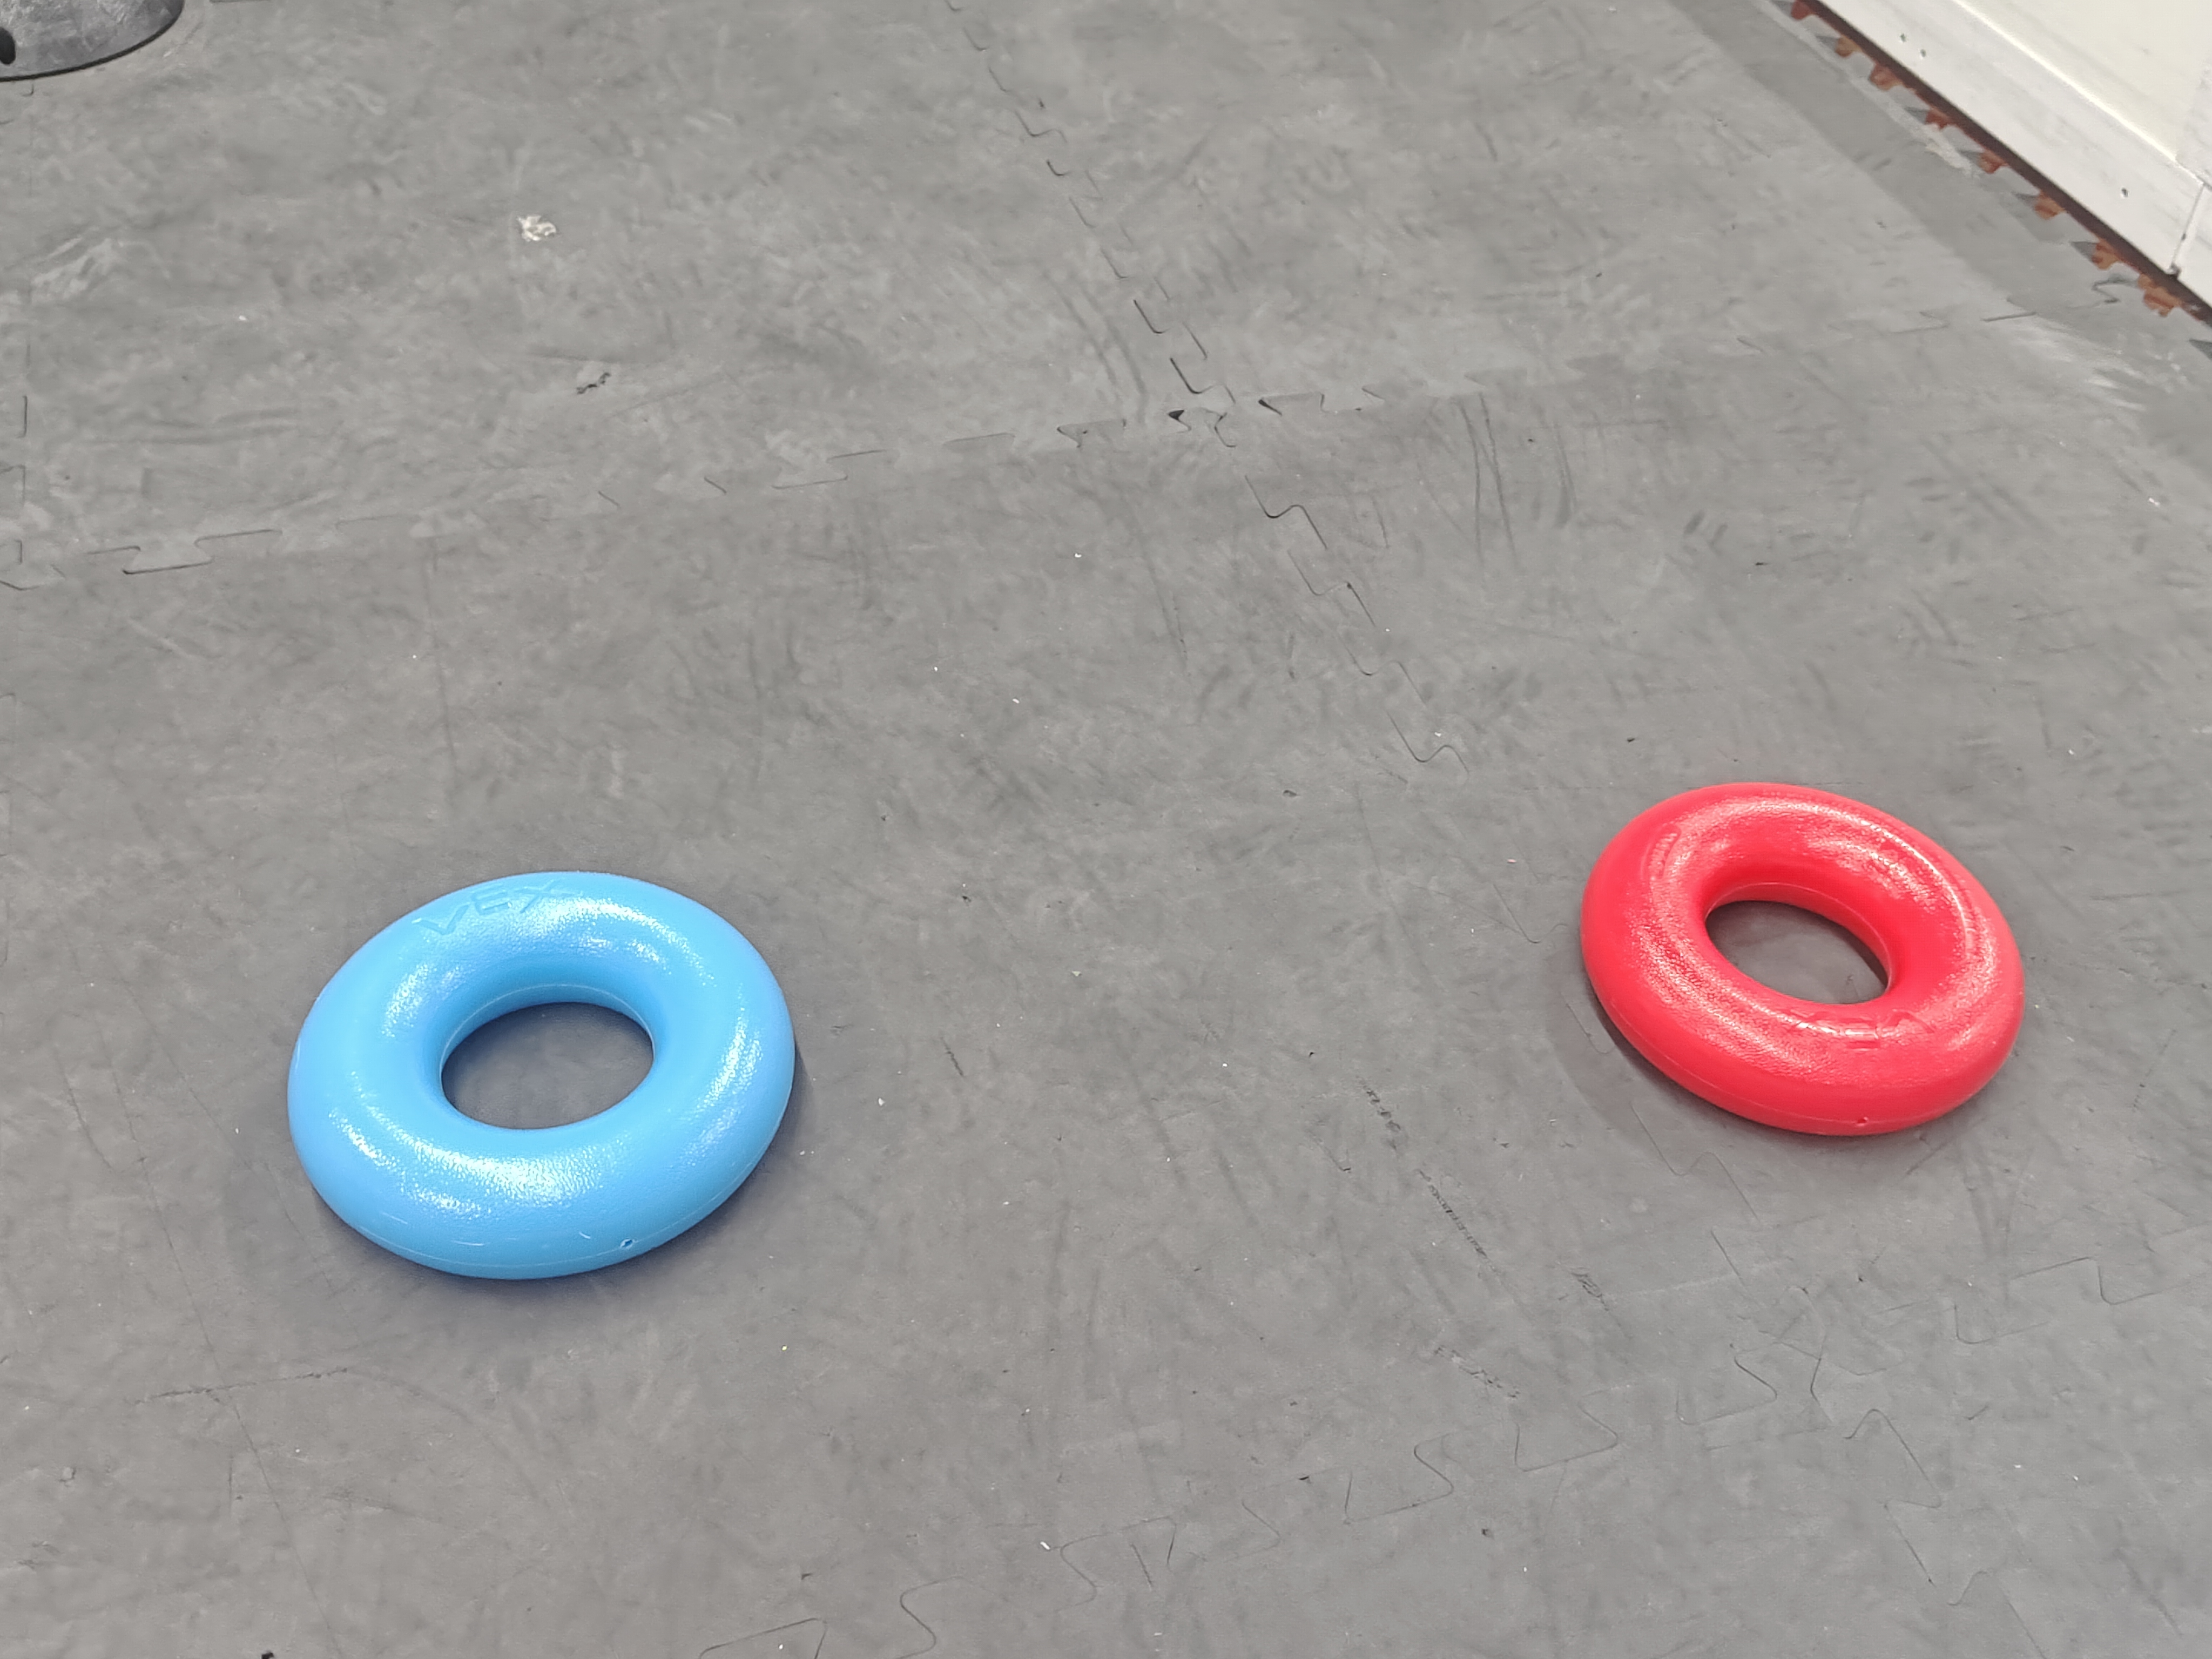blue: (284, 856, 803, 1284)
red: (1573, 779, 2031, 1147)
